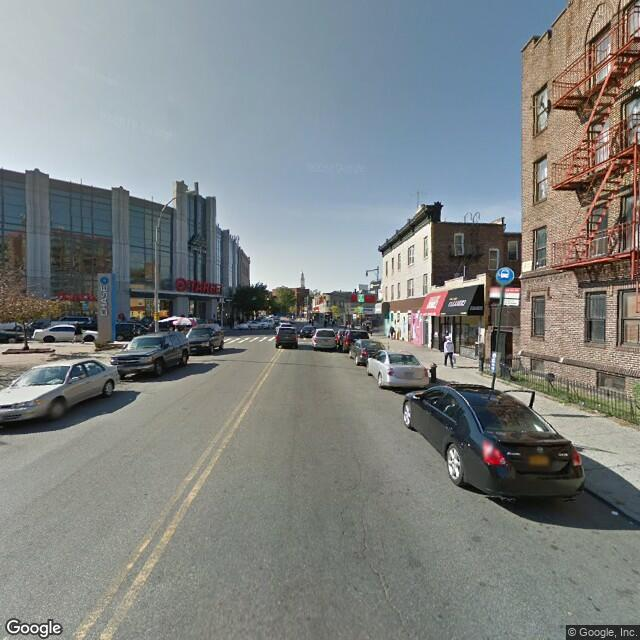litter: (607, 503, 622, 519)
